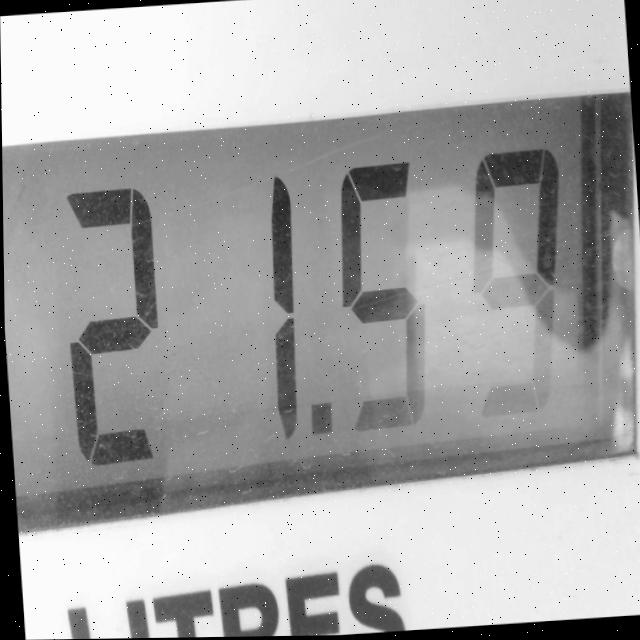.: (309, 406, 333, 438)
1: (262, 176, 304, 436)
2: (60, 186, 176, 467)
5: (333, 156, 429, 434)
9: (460, 147, 568, 408)
